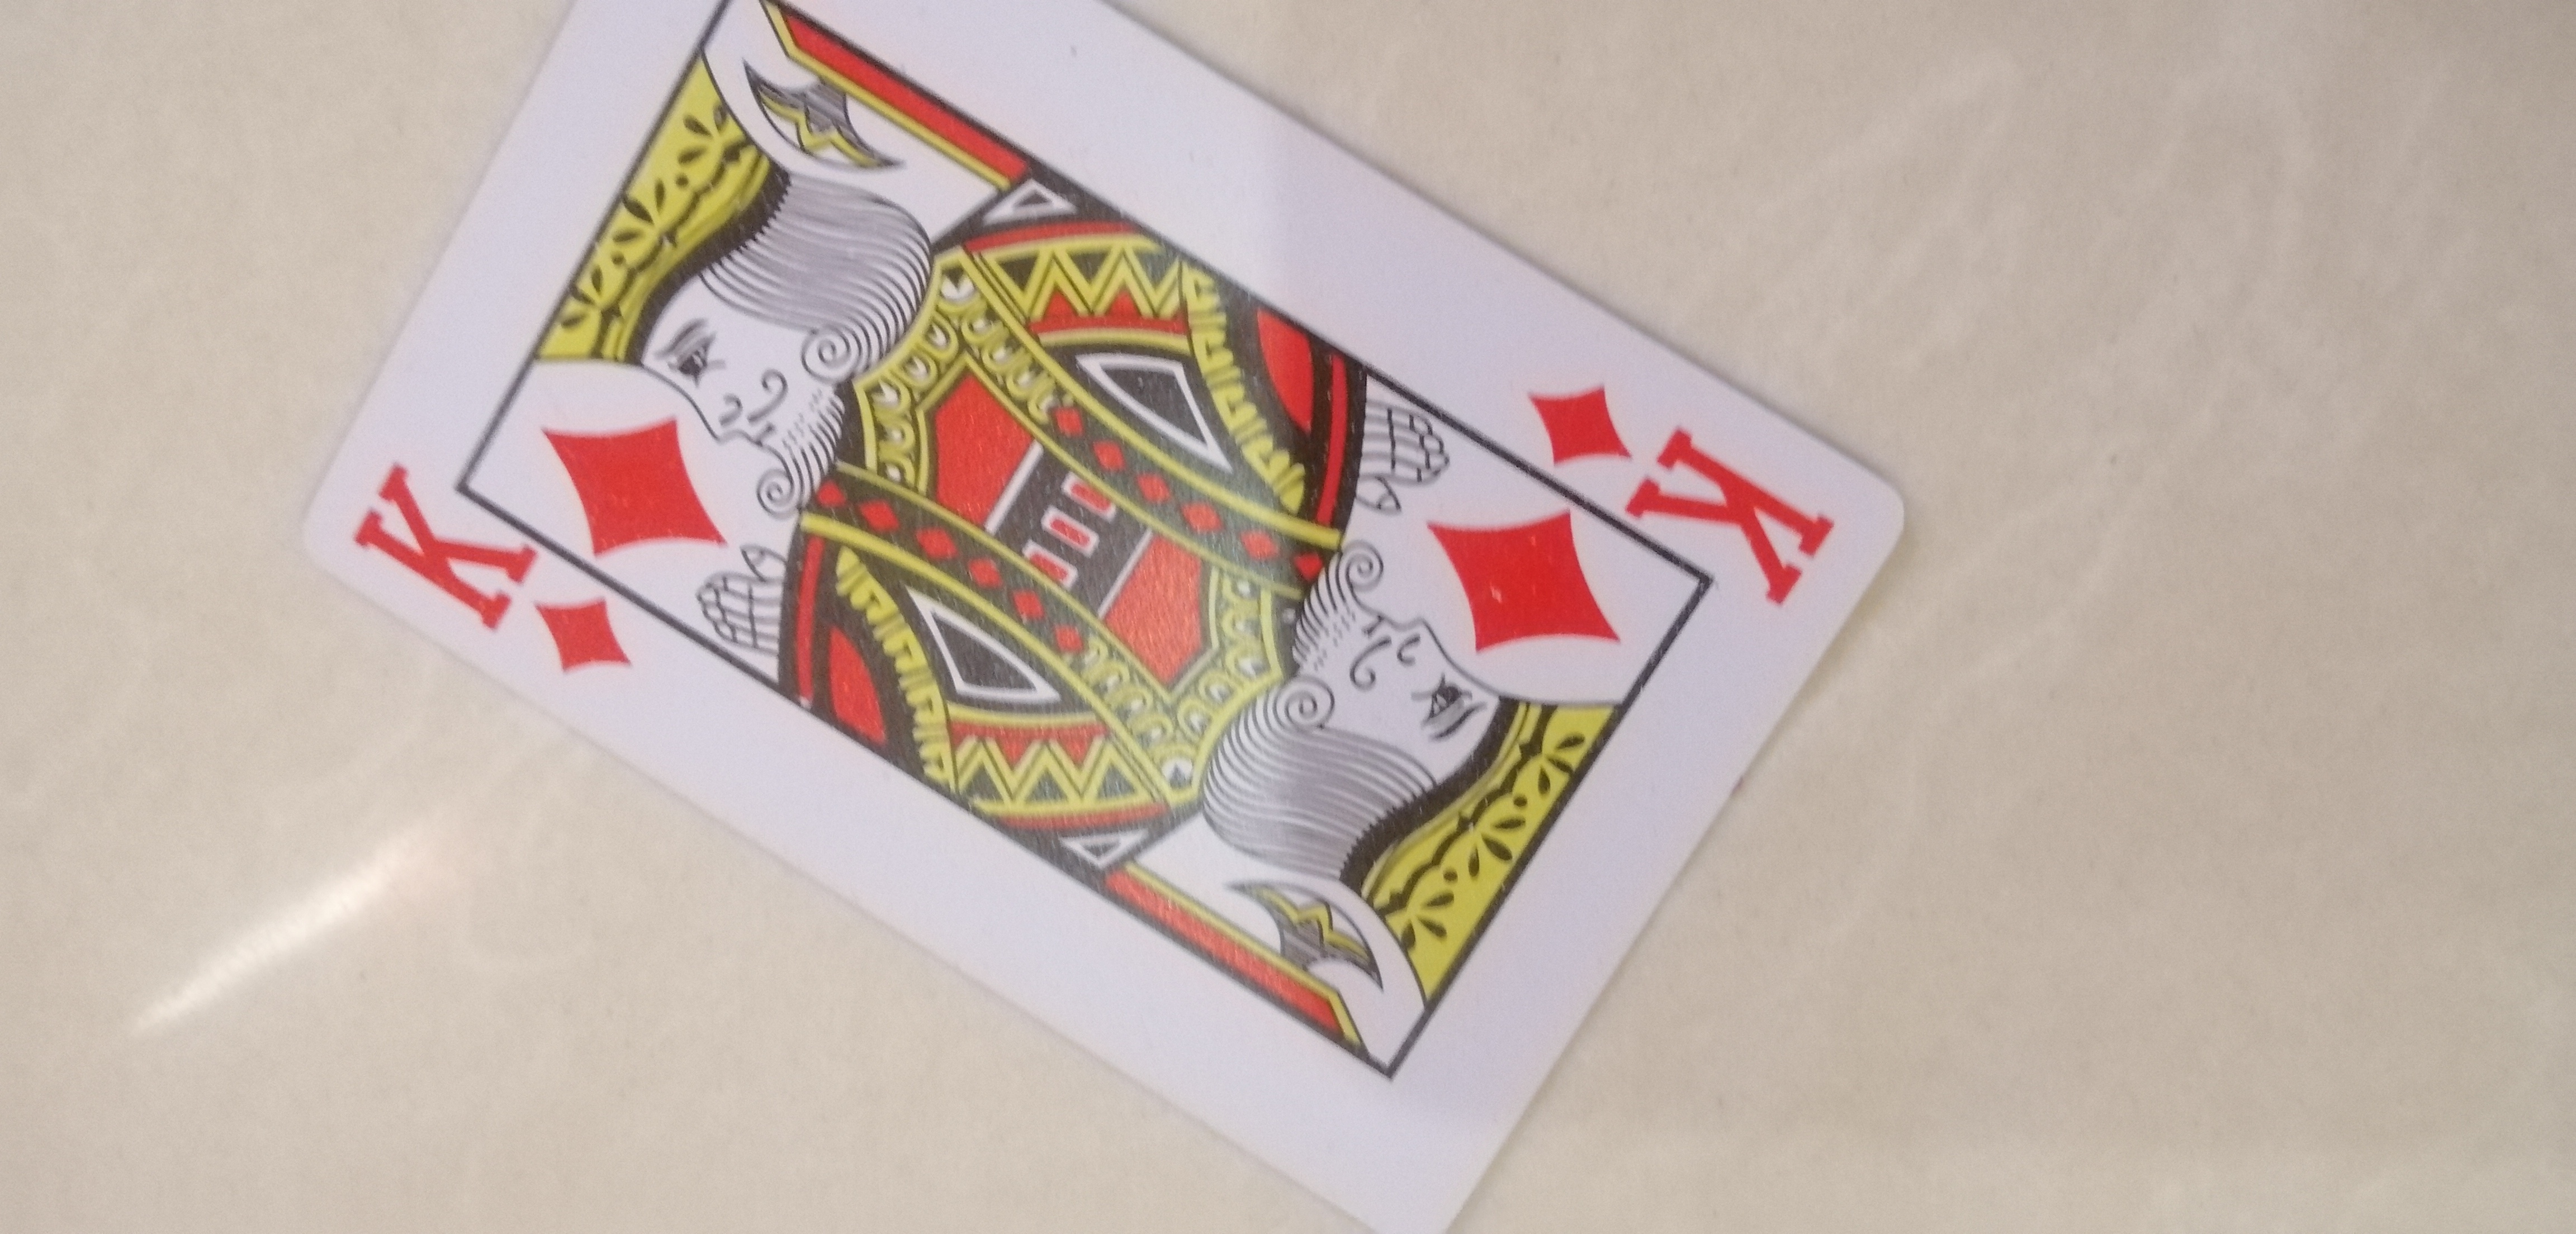king: (294, 25, 1916, 1144)
